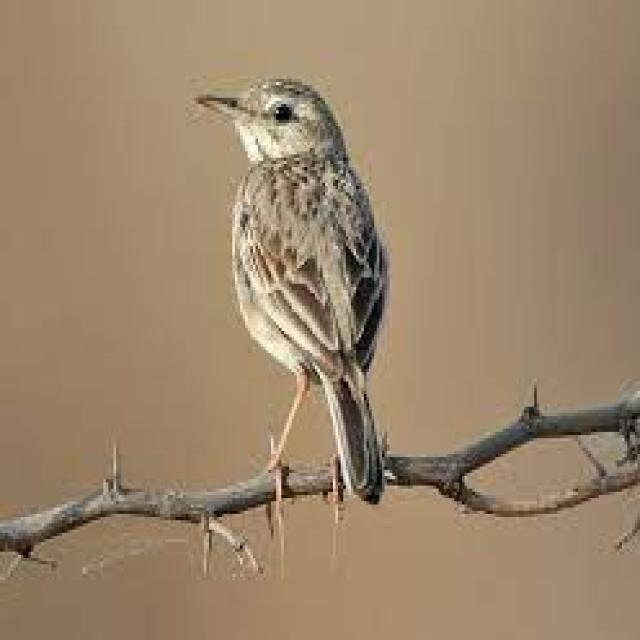bird: (184, 77, 400, 527)
